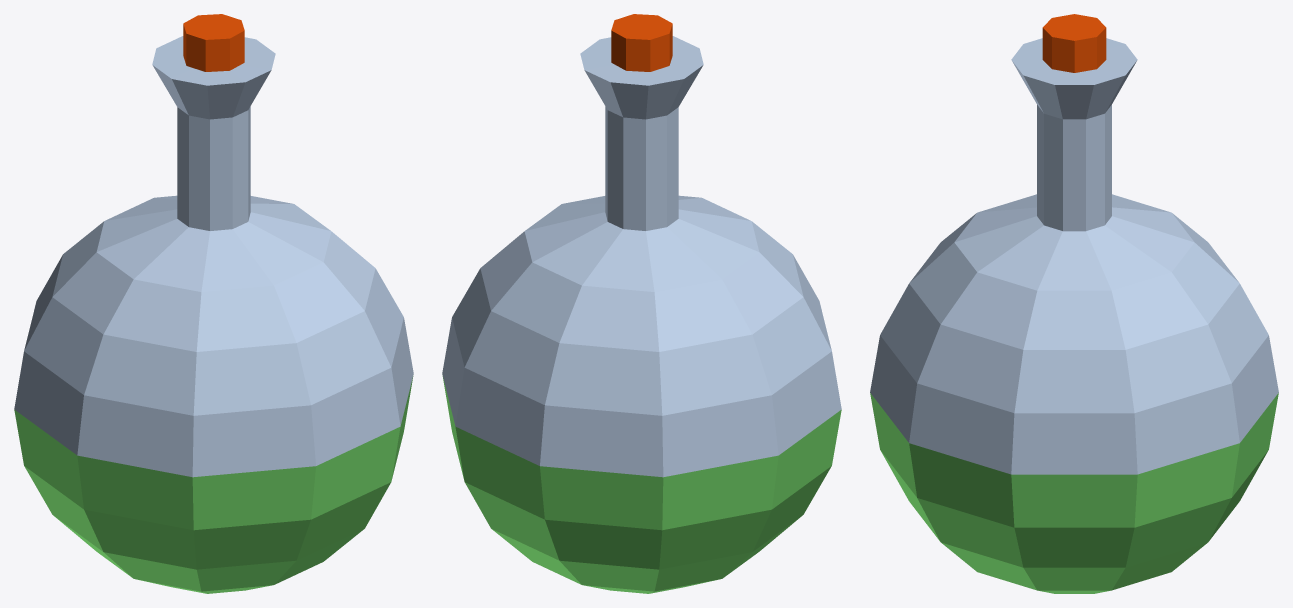
Rendered from kolba.fbx.
3 renders of one model, left to right at view 1: azimuth 30°, elevation 25°; view 2: azimuth 150°, elevation 25°; view 3: azimuth 270°, elevation 25°, orthographic.
Visible parts, largest first — view 1: Сфера; view 2: Сфера; view 3: Сфера.
Boxes of the visible parts, box(x1,y1,x2,y2) form: Сфера: box(14, 14, 413, 593); Сфера: box(442, 14, 841, 593); Сфера: box(870, 14, 1278, 593).
Bounding box in the file's own units: 190 × 297 × 200.
